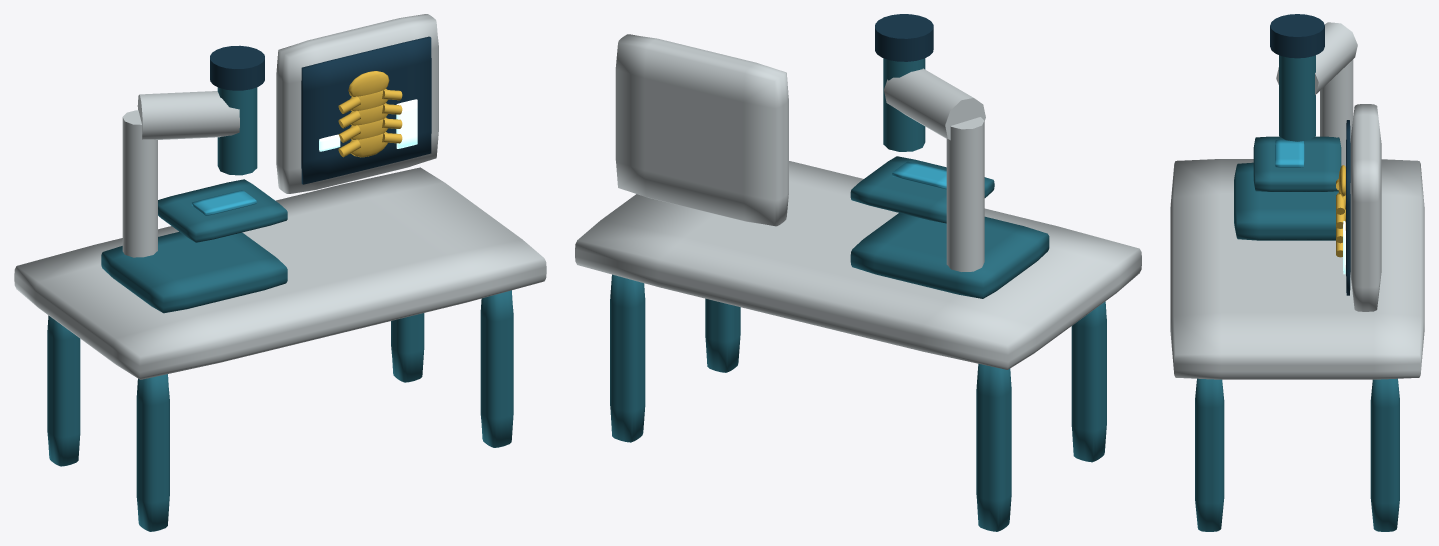
Rendered from microscopio-tardigrados.glb.
3 renders of one model, left to right at view 1: azimuth 30°, elevation 25°; view 2: azimuth 150°, elevation 25°; view 3: azimuth 270°, elevation 25°, orthographic. The views are drawn at different scales.
Visible parts, largest first — view 1: Blanco, Petroleo, Pantalla, Amarillo, Luz, Agua; view 2: Blanco, Petroleo, Pantalla, Agua; view 3: Blanco, Petroleo, Pantalla, Agua, Amarillo.
Boxes of the visible parts, x1,y1,x2,y2 form: Blanco: [14, 14, 546, 379]; Petroleo: [47, 87, 513, 531]; Pantalla: [210, 36, 431, 184]; Amarillo: [338, 71, 402, 157]; Luz: [319, 99, 417, 151]; Agua: [191, 190, 256, 215]; Blanco: [575, 34, 1141, 369]; Petroleo: [610, 58, 1106, 531]; Pantalla: [875, 14, 933, 61]; Agua: [892, 161, 946, 188]; Blanco: [1170, 22, 1424, 379]; Petroleo: [1195, 55, 1399, 531]; Pantalla: [1270, 14, 1350, 295]; Agua: [1275, 139, 1304, 167]; Amarillo: [1336, 165, 1345, 257].
Size of the model in its own units: 3.6 by 3.39 by 1.95.
